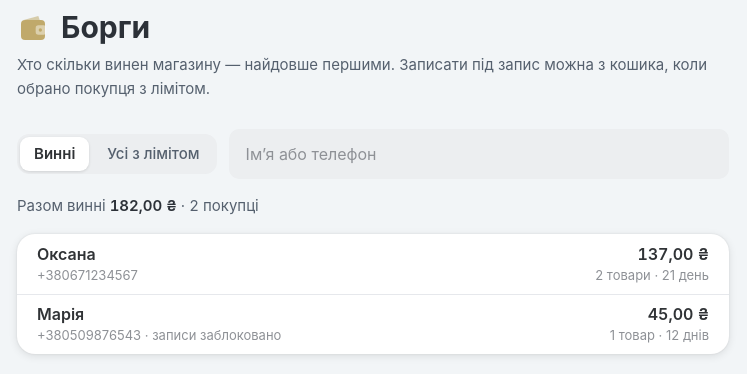
Test case: the debtors › asks the server for everyone with a limit on «Усі з лімітом»
Expected: the list with test id "debtors" is shown, top-left (17, 234), bottom-right (729, 354)
Step 1. Click the button "Усі з лімітом" → (153,154), box top-left (93, 137), bottom-right (214, 171)
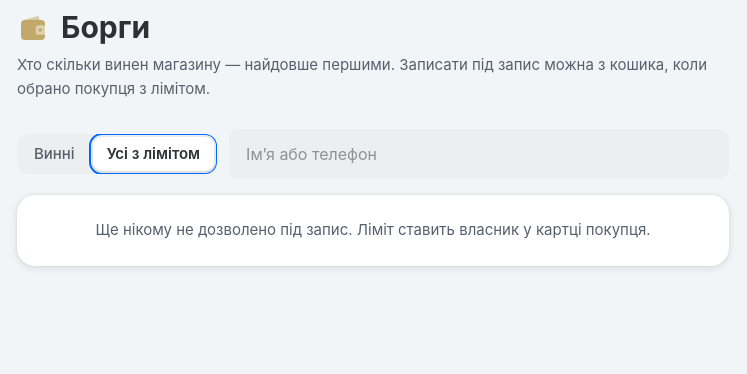
Expected: the text "Ще нікому не дозволено" is shown, top-left (96, 220), bottom-right (651, 239)
